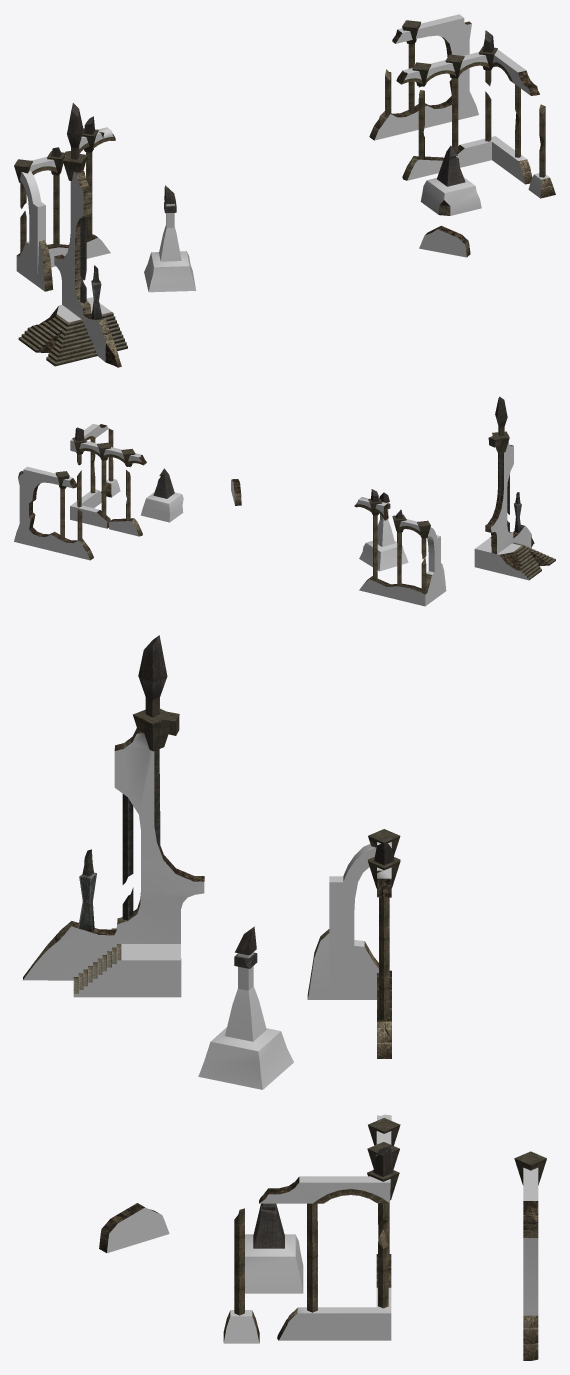
3 renders of one model, top to bottom at view 1: azimuth 30°, elevation 25°; view 2: azimuth 150°, elevation 25°; view 3: azimuth 270°, elevation 25°, orthographic. The views are drawn at different scales.
Parts seen in each view (by area): view 1: Ruins_03_08, Ruins_03_03, Ruins_03_02, Ruins_03_07, Ruins_03_04, Ruins_03_05, Ruins_03_09, Ruins_03_06; view 2: Ruins_03_08, Ruins_03_02, Ruins_03_03, Ruins_03_07, Ruins_03_04, Ruins_03_05, Ruins_03_06; view 3: Ruins_03_08, Ruins_03_03, Ruins_03_02, Ruins_03_04, Ruins_03_05, Ruins_03_07, Ruins_03_09, Ruins_03_06.
Part boxes in pixels (bbox=[...]): Ruins_03_08: bbox=[18, 103, 127, 367]; Ruins_03_03: bbox=[396, 30, 539, 184]; Ruins_03_02: bbox=[14, 116, 115, 291]; Ruins_03_07: bbox=[369, 14, 478, 140]; Ruins_03_04: bbox=[144, 185, 196, 292]; Ruins_03_05: bbox=[420, 145, 481, 215]; Ruins_03_09: bbox=[419, 225, 470, 257]; Ruins_03_06: bbox=[528, 104, 555, 198]; Ruins_03_08: bbox=[474, 396, 555, 580]; Ruins_03_02: bbox=[354, 489, 446, 606]; Ruins_03_03: bbox=[70, 423, 146, 536]; Ruins_03_07: bbox=[14, 466, 93, 560]; Ruins_03_04: bbox=[359, 492, 408, 571]; Ruins_03_05: bbox=[140, 468, 183, 522]; Ruins_03_06: bbox=[101, 428, 120, 497]; Ruins_03_08: bbox=[23, 635, 204, 997]; Ruins_03_03: bbox=[259, 1114, 400, 1340]; Ruins_03_02: bbox=[307, 829, 400, 1058]; Ruins_03_04: bbox=[198, 926, 293, 1089]; Ruins_03_05: bbox=[245, 1203, 303, 1293]; Ruins_03_07: bbox=[514, 1151, 546, 1360]; Ruins_03_09: bbox=[99, 1203, 169, 1253]; Ruins_03_06: bbox=[223, 1208, 259, 1343].
Bounding box in the file's own units: 6071 × 3227 × 2331.
